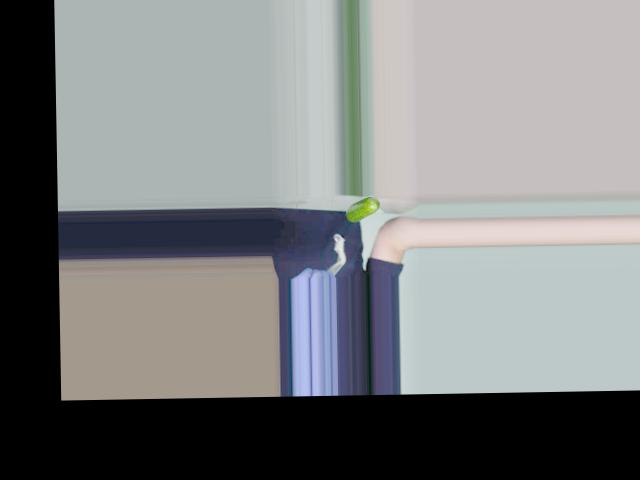cucumber: (346, 196, 380, 222)
